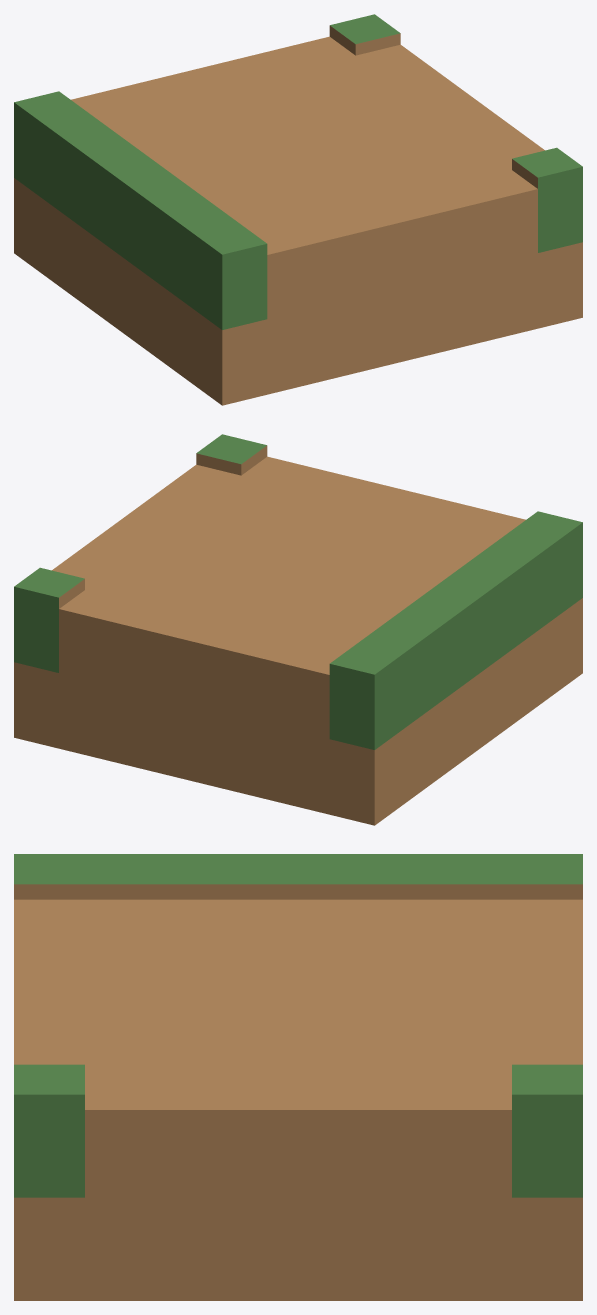
Rendered from towerDefense_099.obj.
The picture shows the model from 3 angles, top to bottom: view 1: azimuth 30°, elevation 25°; view 2: azimuth 150°, elevation 25°; view 3: azimuth 270°, elevation 25°; orthographic projection. The views are drawn at different scales.
Visible parts, largest first — view 1: Mesh1 Group1 Model; view 2: Mesh1 Group1 Model; view 3: Mesh1 Group1 Model.
Boxes of the visible parts, box(x1,y1,x2,y2) form: Mesh1 Group1 Model: box(14, 14, 582, 405); Mesh1 Group1 Model: box(14, 434, 582, 825); Mesh1 Group1 Model: box(14, 854, 582, 1300).
Bounding box in the file's own units: 1 × 0.4 × 1.
